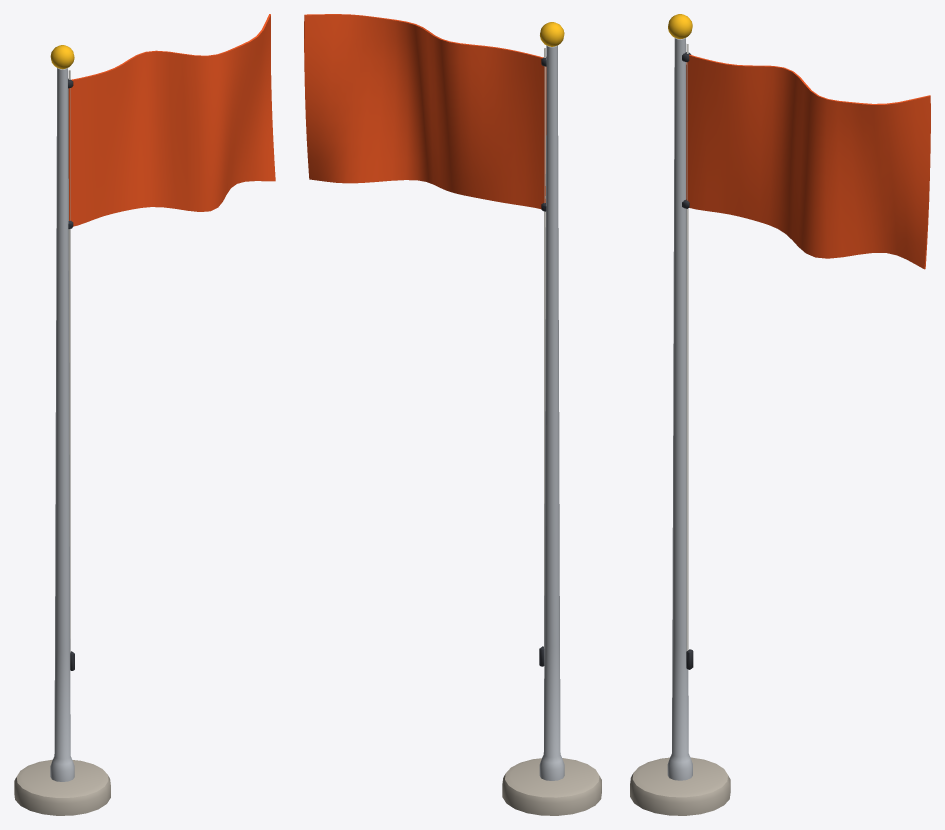
File: flag_pole.glb
The picture shows the model from 3 angles, left to right: view 1: azimuth 30°, elevation 25°; view 2: azimuth 150°, elevation 25°; view 3: azimuth 330°, elevation 25°; orthographic projection. The views are drawn at different scales.
Parts seen in each view (by area): view 1: flag_pole; view 2: flag_pole; view 3: flag_pole.
Boxes of the visible parts, x1,y1,x2,y2 form: flag_pole: (14, 14, 275, 815); flag_pole: (304, 14, 601, 815); flag_pole: (630, 14, 930, 815).
Bounding box in the file's own units: 1.9 × 5.11 × 0.6.
